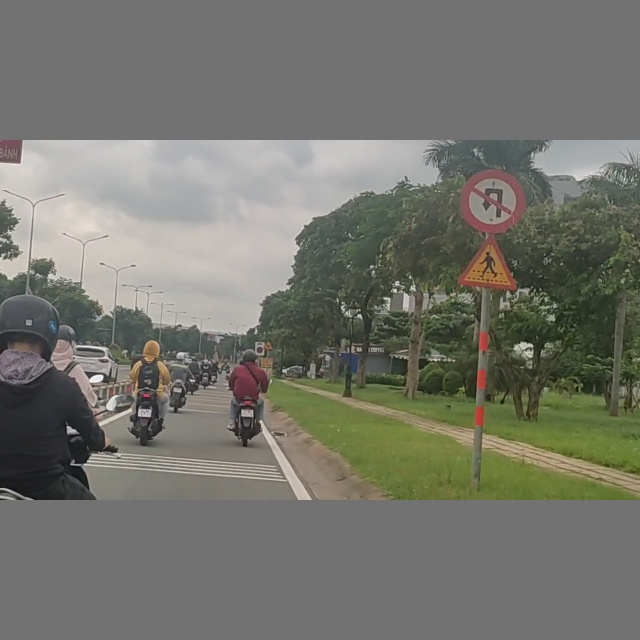P.124a*: (459, 169, 526, 234)
P.130: (257, 347, 263, 353)
W.224: (461, 235, 518, 289)
